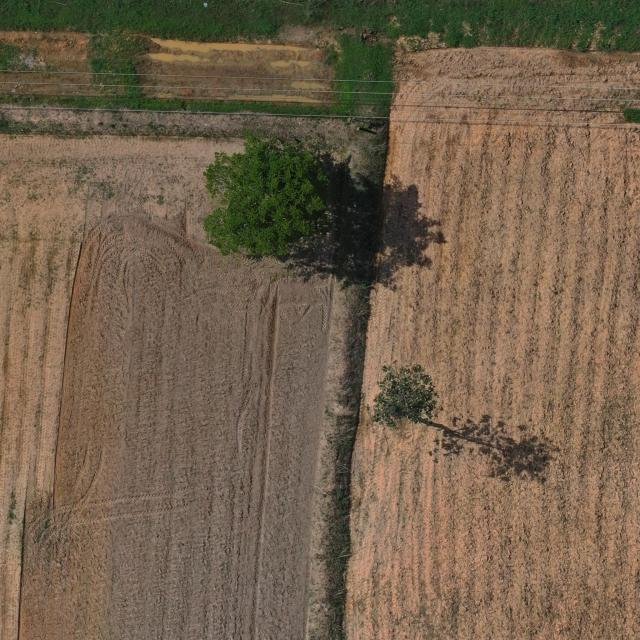Tree: (200, 132, 333, 261), (369, 360, 446, 430)
